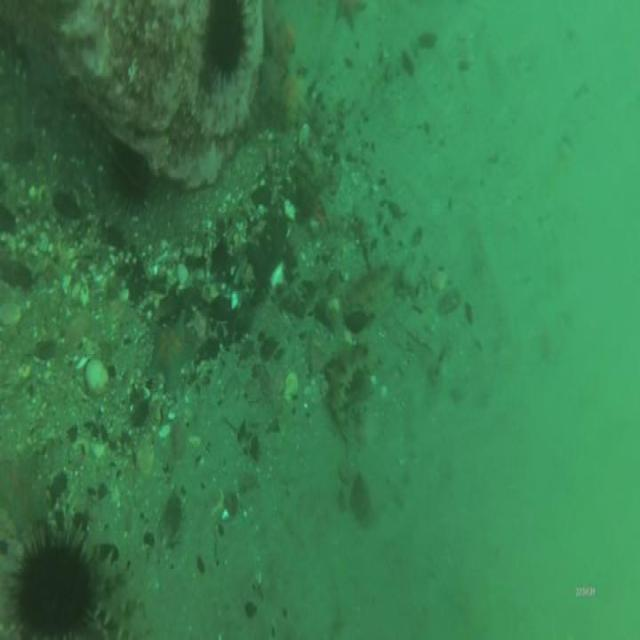echinus: (17, 539, 95, 637), (207, 3, 245, 76), (110, 152, 150, 204)
holothurian: (328, 346, 375, 428), (344, 264, 397, 305)
scallop: (84, 356, 106, 395)
starfish: (144, 315, 195, 387)
